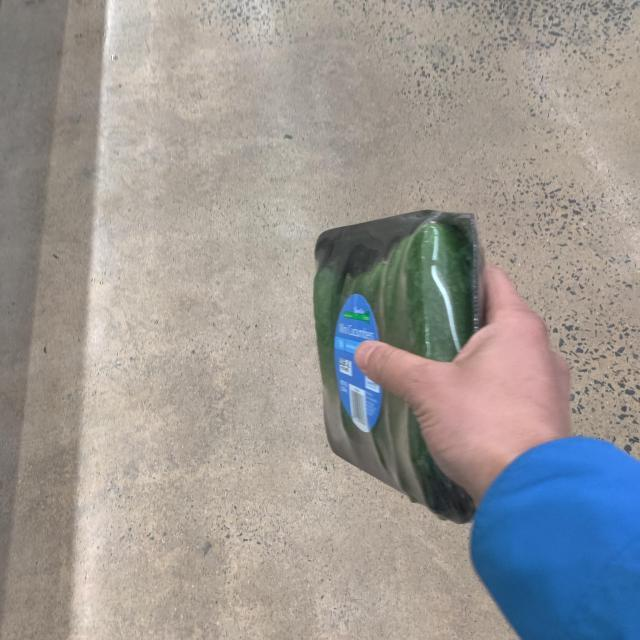cucumber: (289, 177, 516, 526)
